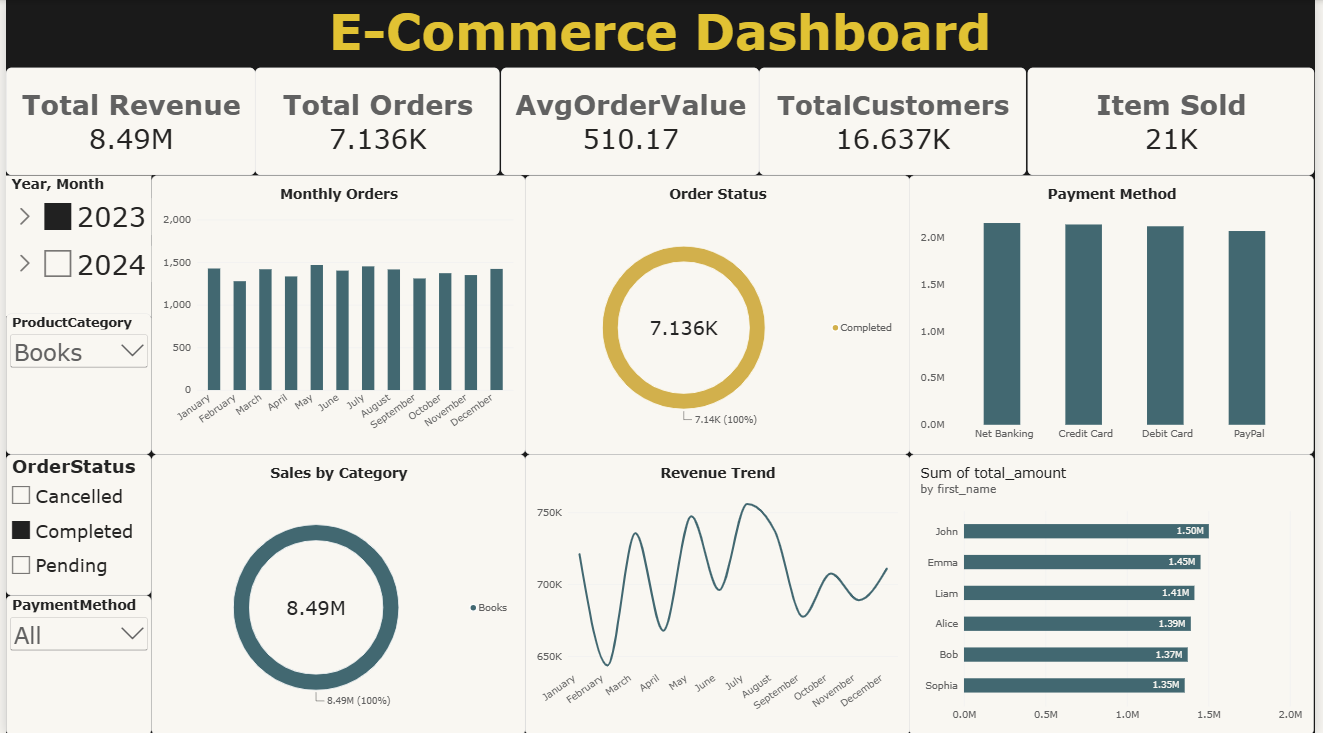

The page's visual inventory and layout, read from the dashboard file:
{"tool":"powerbi","page":{"name":"Page 1","canvas":[1920,1080],"ordinal":0},"visuals":[{"type":"textbox","box":[0,0,1920,100.6],"z":0},{"type":"cardVisual","fields":{"Data":["Sum(orders.total_amount)"]},"box":[0,98.2,366.1,158.5],"z":1},{"type":"cardVisual","fields":{"Data":["CountNonNull(order_items.order_id)"]},"box":[366.1,98.2,359.4,158.5],"z":7},{"type":"cardVisual","fields":{"Data":["Avg(orders.total_amount)"]},"box":[725.6,98.2,379.5,158.5],"z":8},{"type":"cardVisual","fields":{"Data":["Sum(order_items.quantity)"]},"box":[1498,98.2,422,158.5],"z":10},{"type":"cardVisual","fields":{"Data":["CountNonNull(orders.customer_id)"]},"box":[1105.1,98.2,392.9,158.5],"z":11},{"type":"slicer","fields":{"Values":["orders.order_date.Variation.Date Hierarchy.Year","orders.order_date.Variation.Date Hierarchy.Month"]},"box":[0,256.7,213.5,206.7],"z":12},{"type":"slicer","fields":{"Values":["products.category"]},"box":[0,461.1,213.5,206.7],"z":16},{"type":"slicer","fields":{"Values":["orders.order_status"]},"box":[0,667.4,213.5,206.7],"z":17},{"type":"slicer","fields":{"Values":["payments.payment_method"]},"box":[0,874.5,213.5,204.4],"z":18},{"type":"lineChart","title":"Revenue Trend","fields":{"Category":["orders.order_date.Variation.Date Hierarchy.Month"],"Y":["Sum(orders.total_amount)"]},"box":[761.1,667.4,564.6,411.4],"z":19},{"type":"clusteredColumnChart","title":"Monthly Orders","fields":{"Category":["orders.order_date.Variation.Date Hierarchy.Month"],"Y":["CountNonNull(orders.order_id)"]},"box":[212.6,258.3,548.6,409.1],"z":20},{"type":"donutChart","title":"Order Status","fields":{"Category":["orders.order_status"],"Y":["CountNonNull(order_items.order_id)"]},"box":[761.1,258.3,564.6,409.1],"z":21},{"type":"donutChart","title":"Sales by Category","fields":{"Category":["products.category"],"Y":["Sum(orders.total_amount)"]},"box":[212.6,667.4,548.6,411.4],"z":22},{"type":"clusteredColumnChart","title":"Payment Method","fields":{"Category":["payments.payment_method"],"Y":["Sum(orders.total_amount)"]},"box":[1325.7,258.3,594.3,409.1],"z":23},{"type":"barChart","fields":{"Category":["customers.first_name"],"Y":["Sum(orders.total_amount)"]},"box":[1325.7,667.4,594.3,411.4],"z":24}]}

Visuals, with their boxes in screenshot pixels (x1, y1, x2, y2), scaled from the page's 1920x1080 canvas onto the 1323x733 screenshot:
textbox: left=0, top=0, right=1322, bottom=68
cardVisual - Sum(orders.total_amount): left=0, top=67, right=252, bottom=174
cardVisual - CountNonNull(order_items.order_id): left=252, top=67, right=500, bottom=174
cardVisual - Avg(orders.total_amount): left=500, top=67, right=761, bottom=174
cardVisual - Sum(order_items.quantity): left=1032, top=67, right=1322, bottom=174
cardVisual - CountNonNull(orders.customer_id): left=761, top=67, right=1032, bottom=174
slicer - orders.order_date.Variation.Date Hierarchy.Year x orders.order_date.Variation.Date Hierarchy.Month: left=0, top=174, right=147, bottom=315
slicer - products.category: left=0, top=313, right=147, bottom=453
slicer - orders.order_status: left=0, top=453, right=147, bottom=593
slicer - payments.payment_method: left=0, top=594, right=147, bottom=732
"Revenue Trend" lineChart: left=524, top=453, right=913, bottom=732
"Monthly Orders" clusteredColumnChart: left=146, top=175, right=525, bottom=453
"Order Status" donutChart: left=524, top=175, right=913, bottom=453
"Sales by Category" donutChart: left=146, top=453, right=525, bottom=732
"Payment Method" clusteredColumnChart: left=913, top=175, right=1322, bottom=453
barChart - customers.first_name x Sum(orders.total_amount): left=913, top=453, right=1322, bottom=732
